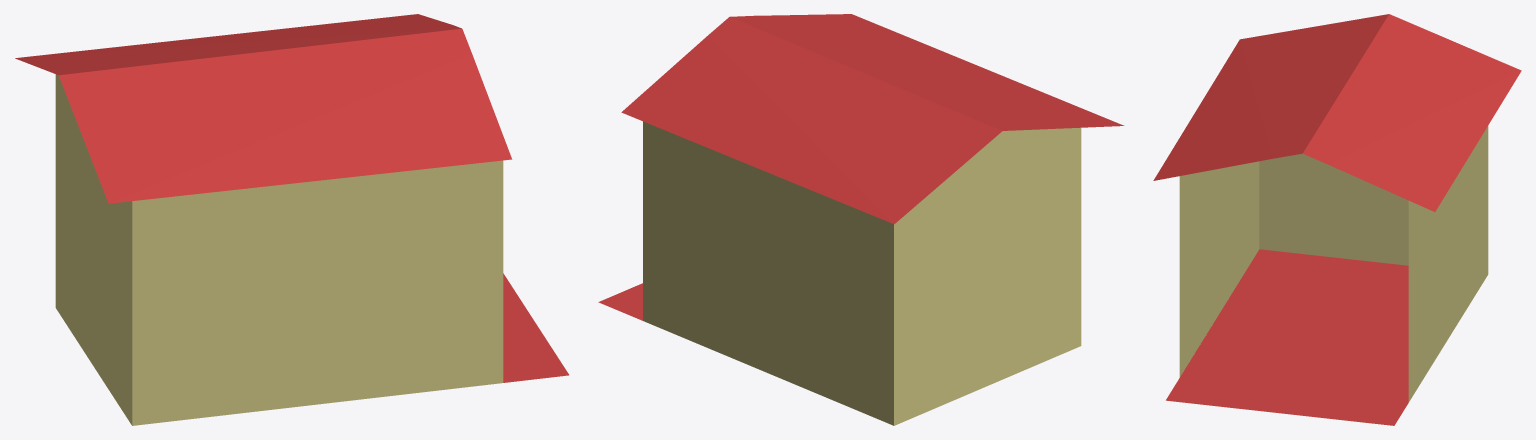
3 views of the same model, side by side, from view 1: azimuth 30°, elevation 25°; view 2: azimuth 150°, elevation 25°; view 3: azimuth 270°, elevation 25° (orthographic). The views are drawn at different scales.
Parts seen in each view (by area): view 1: group_5, group_3, group_6, group_4; view 2: group_5, group_3, group_4, group_6; view 3: group_3, group_5, group_6, group_4.
Boxes of the visible parts, left/top/right/bottom form: group_5: left=55, top=74, right=503, bottom=425; group_3: left=15, top=14, right=512, bottom=203; group_6: left=503, top=273, right=568, bottom=382; group_4: left=35, top=14, right=510, bottom=202; group_5: left=643, top=121, right=1081, bottom=425; group_3: left=621, top=14, right=1124, bottom=224; group_4: left=624, top=14, right=1116, bottom=222; group_6: left=598, top=283, right=642, bottom=320; group_3: left=1153, top=14, right=1521, bottom=211; group_5: left=1179, top=126, right=1488, bottom=402; group_6: left=1166, top=249, right=1408, bottom=425; group_4: left=1155, top=46, right=1519, bottom=208.
Size of the model in its own units: 12.33 by 10.06 by 7.15.
